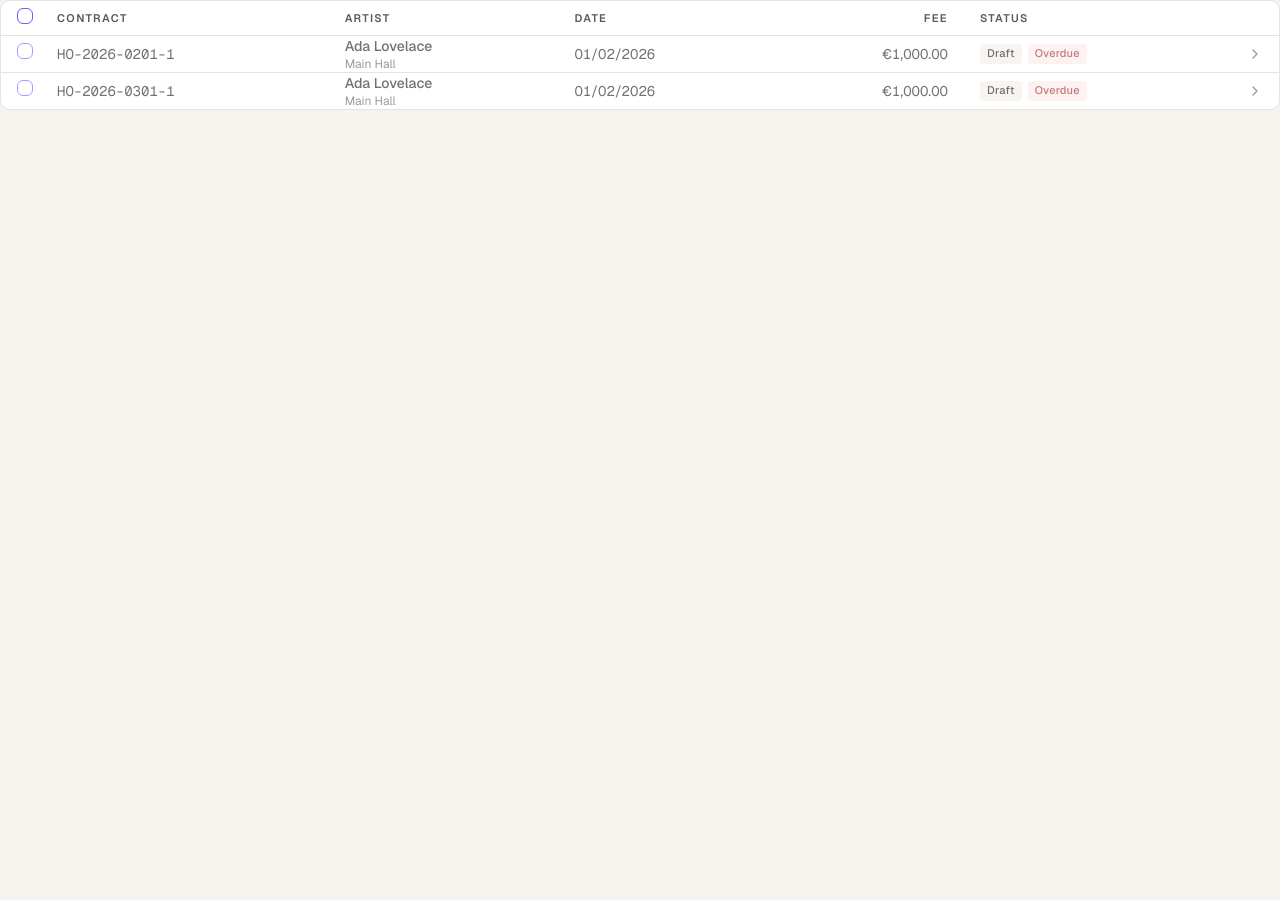
Scenario: OrdersTable batch issue selection › keeps a failed order selected and drops the succeeded one after a partial batch-issue failure
Click the checkbox named "select contract ho-2026-0201-1" at (25, 51), box [17,43,33,59]
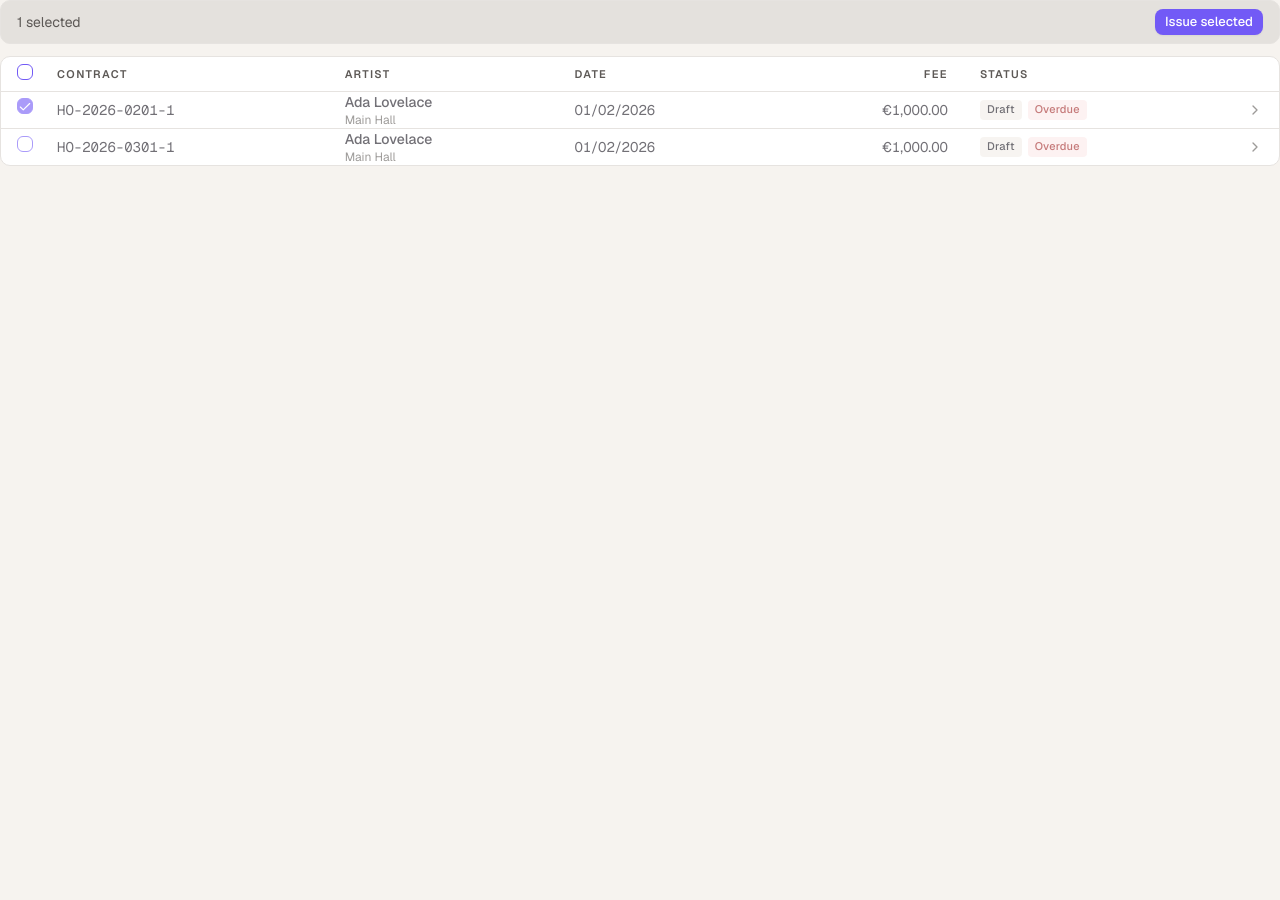
Click the checkbox named "select contract ho-2026-0301-1" at (25, 144), box [17,136,33,152]
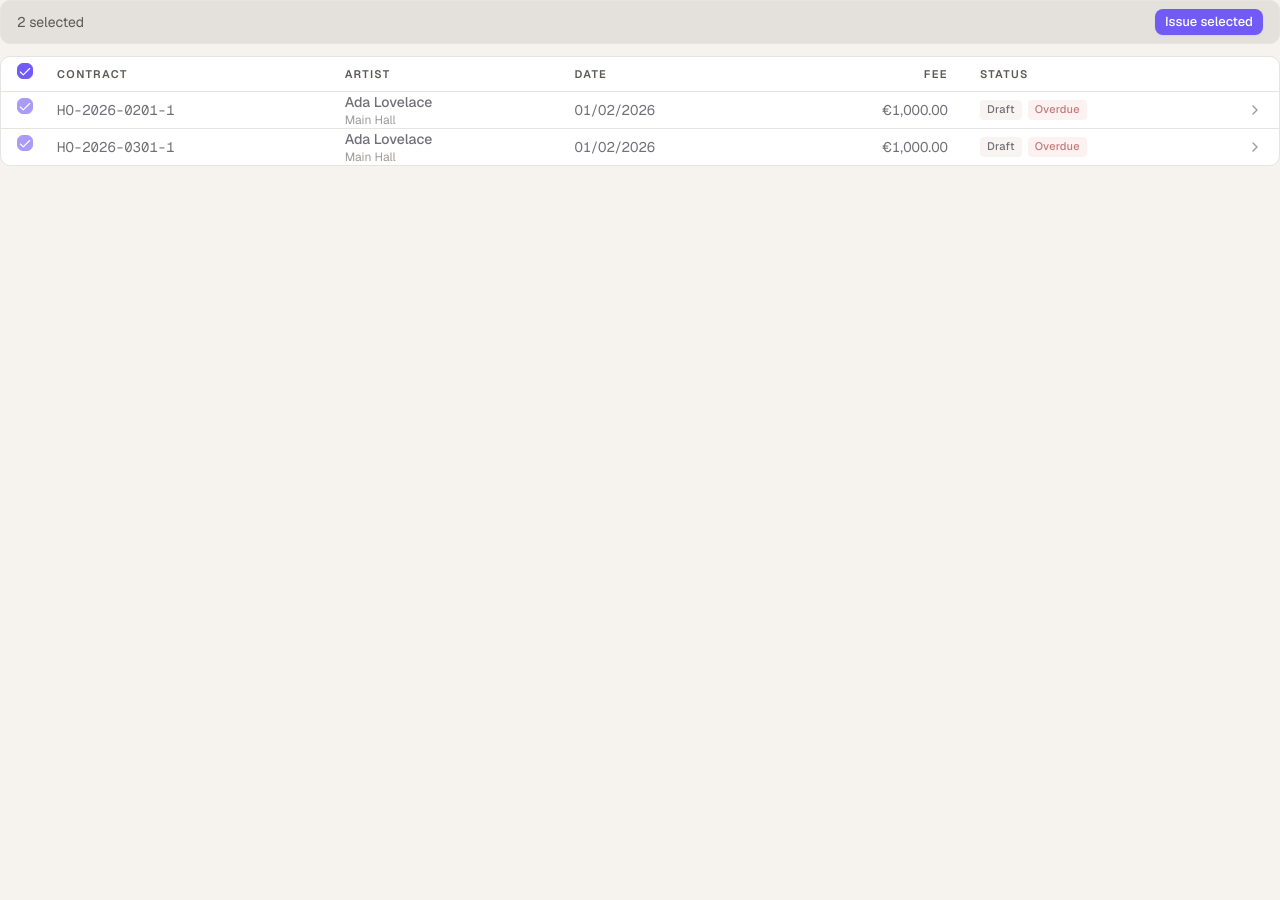
Click the button "Issue selected" at (1209, 22), box [1155,9,1263,35]
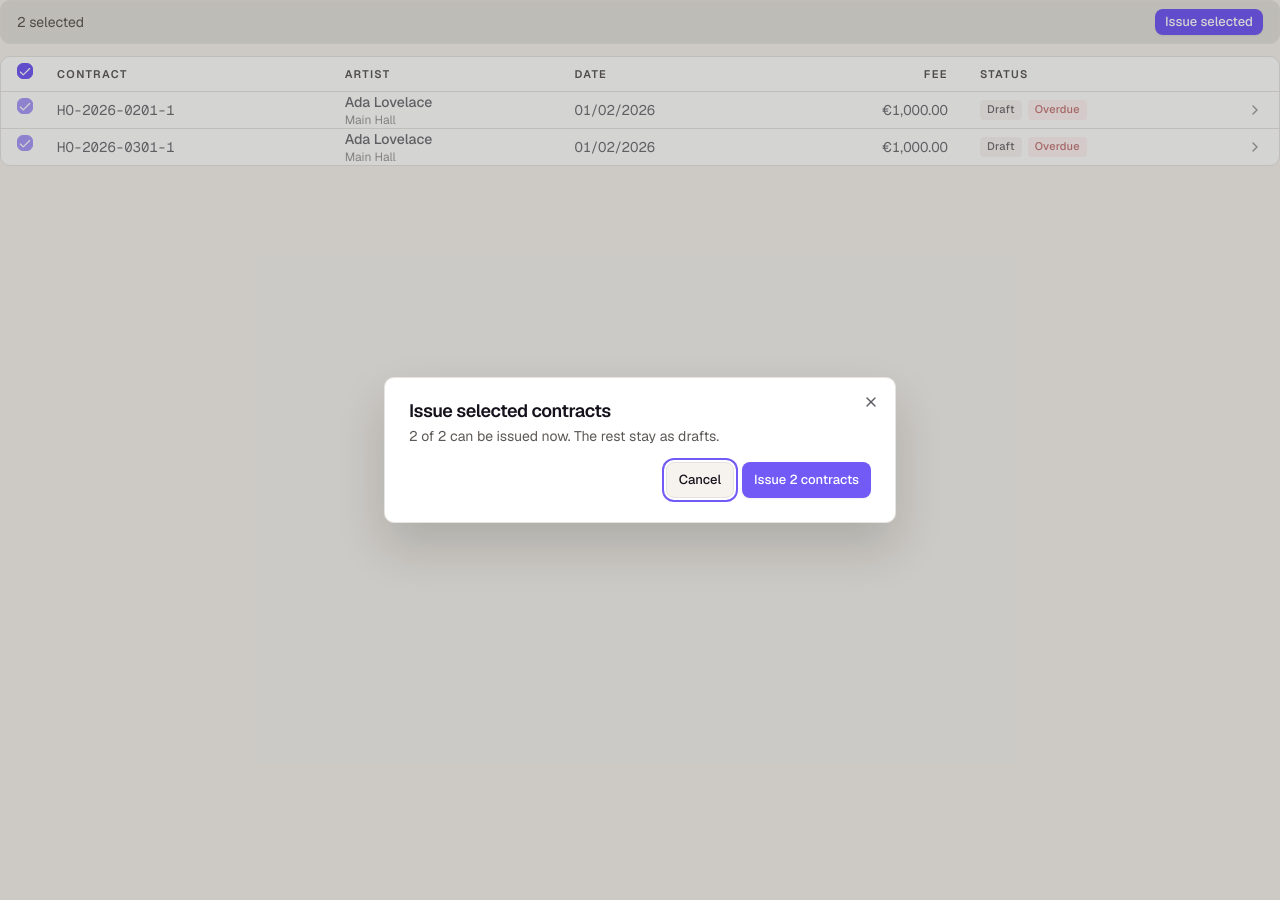
Click the button "Issue 2 contracts" at (807, 480), box [742,462,871,498]
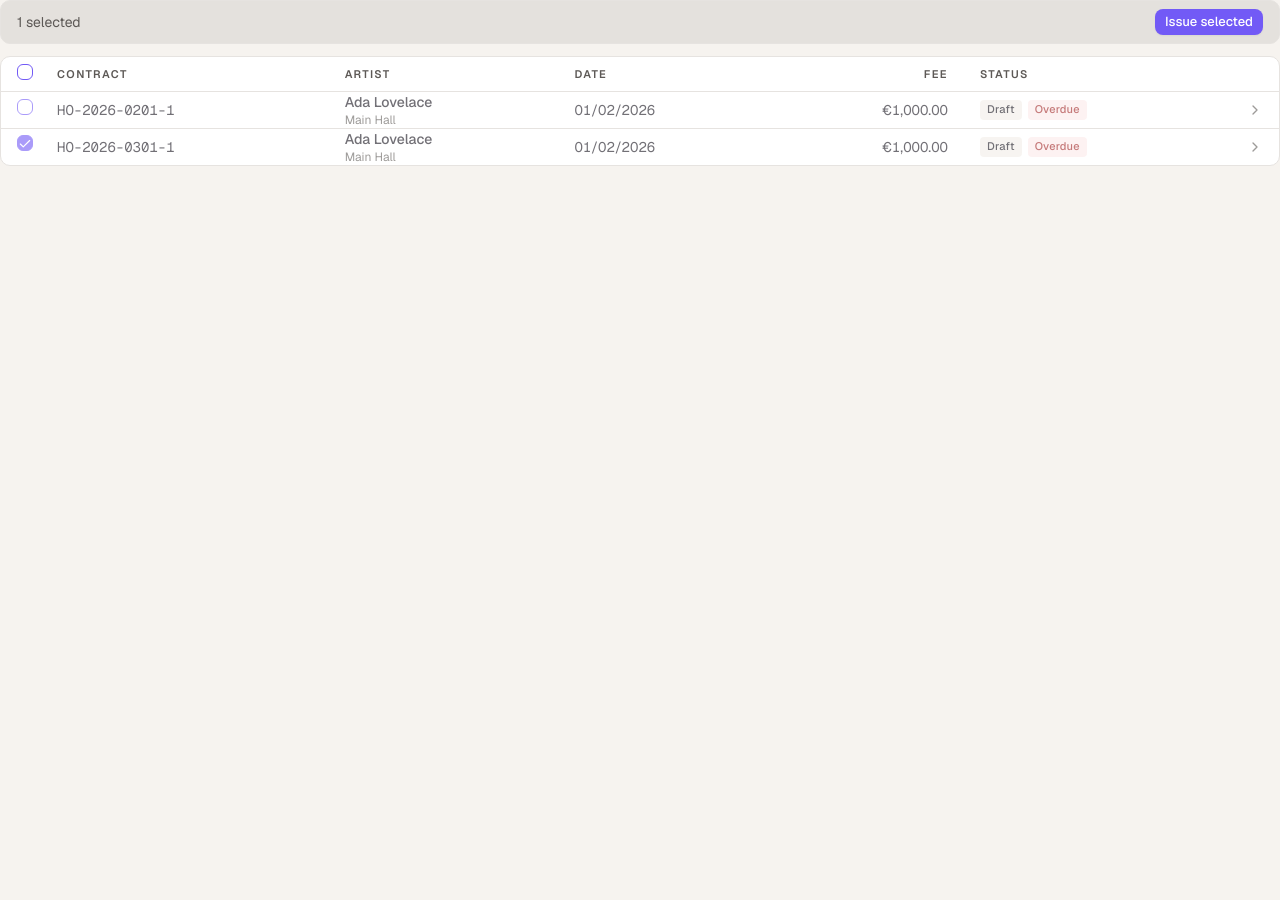
expect the checkbox named "select contract ho-2026-0301-1" is checked: met, box [17,135,33,151]
expect the checkbox named "select contract ho-2026-0201-1" is not checked: met, box [17,99,33,115]
expect the text "1 selected" is shown: met, box [17,12,81,32]
